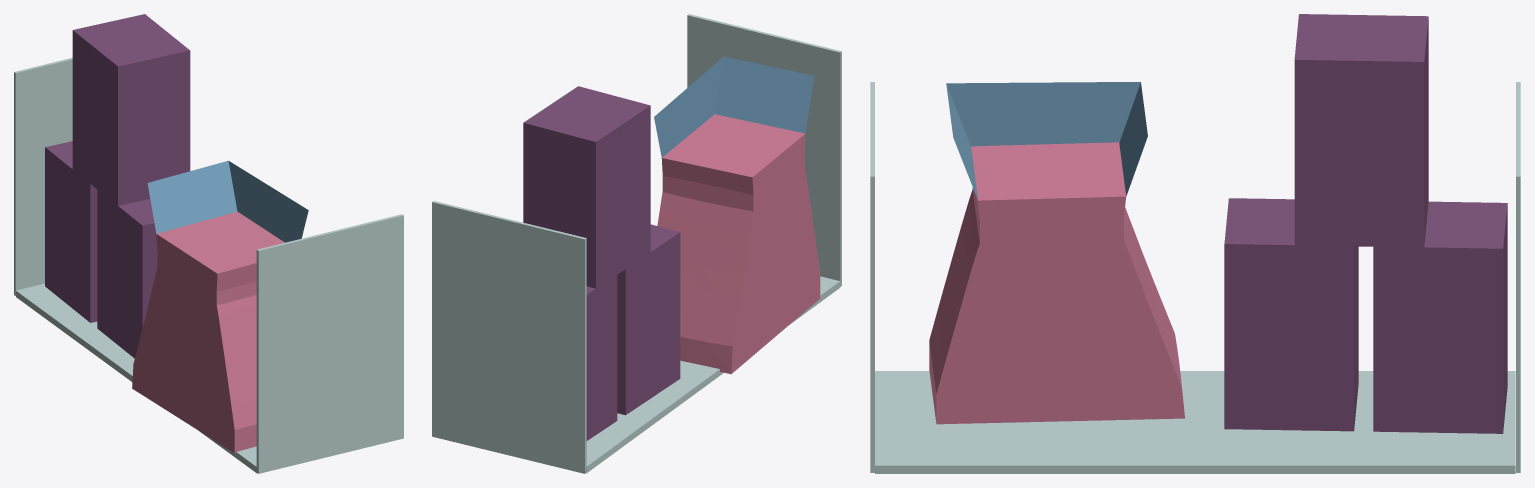
3 views of the same model, side by side, from view 1: azimuth 30°, elevation 25°; view 2: azimuth 150°, elevation 25°; view 3: azimuth 270°, elevation 25° (orthographic). The views are drawn at different scales.
Visible parts, largest first — view 1: world; view 2: world; view 3: world.
Part boxes in pixels (left/top/right/bottom): world: left=14, top=14, right=403, bottom=473; world: left=432, top=14, right=841, bottom=473; world: left=870, top=14, right=1520, bottom=473.
Size of the model in its own units: 0.3686 by 0.6434 by 1.
